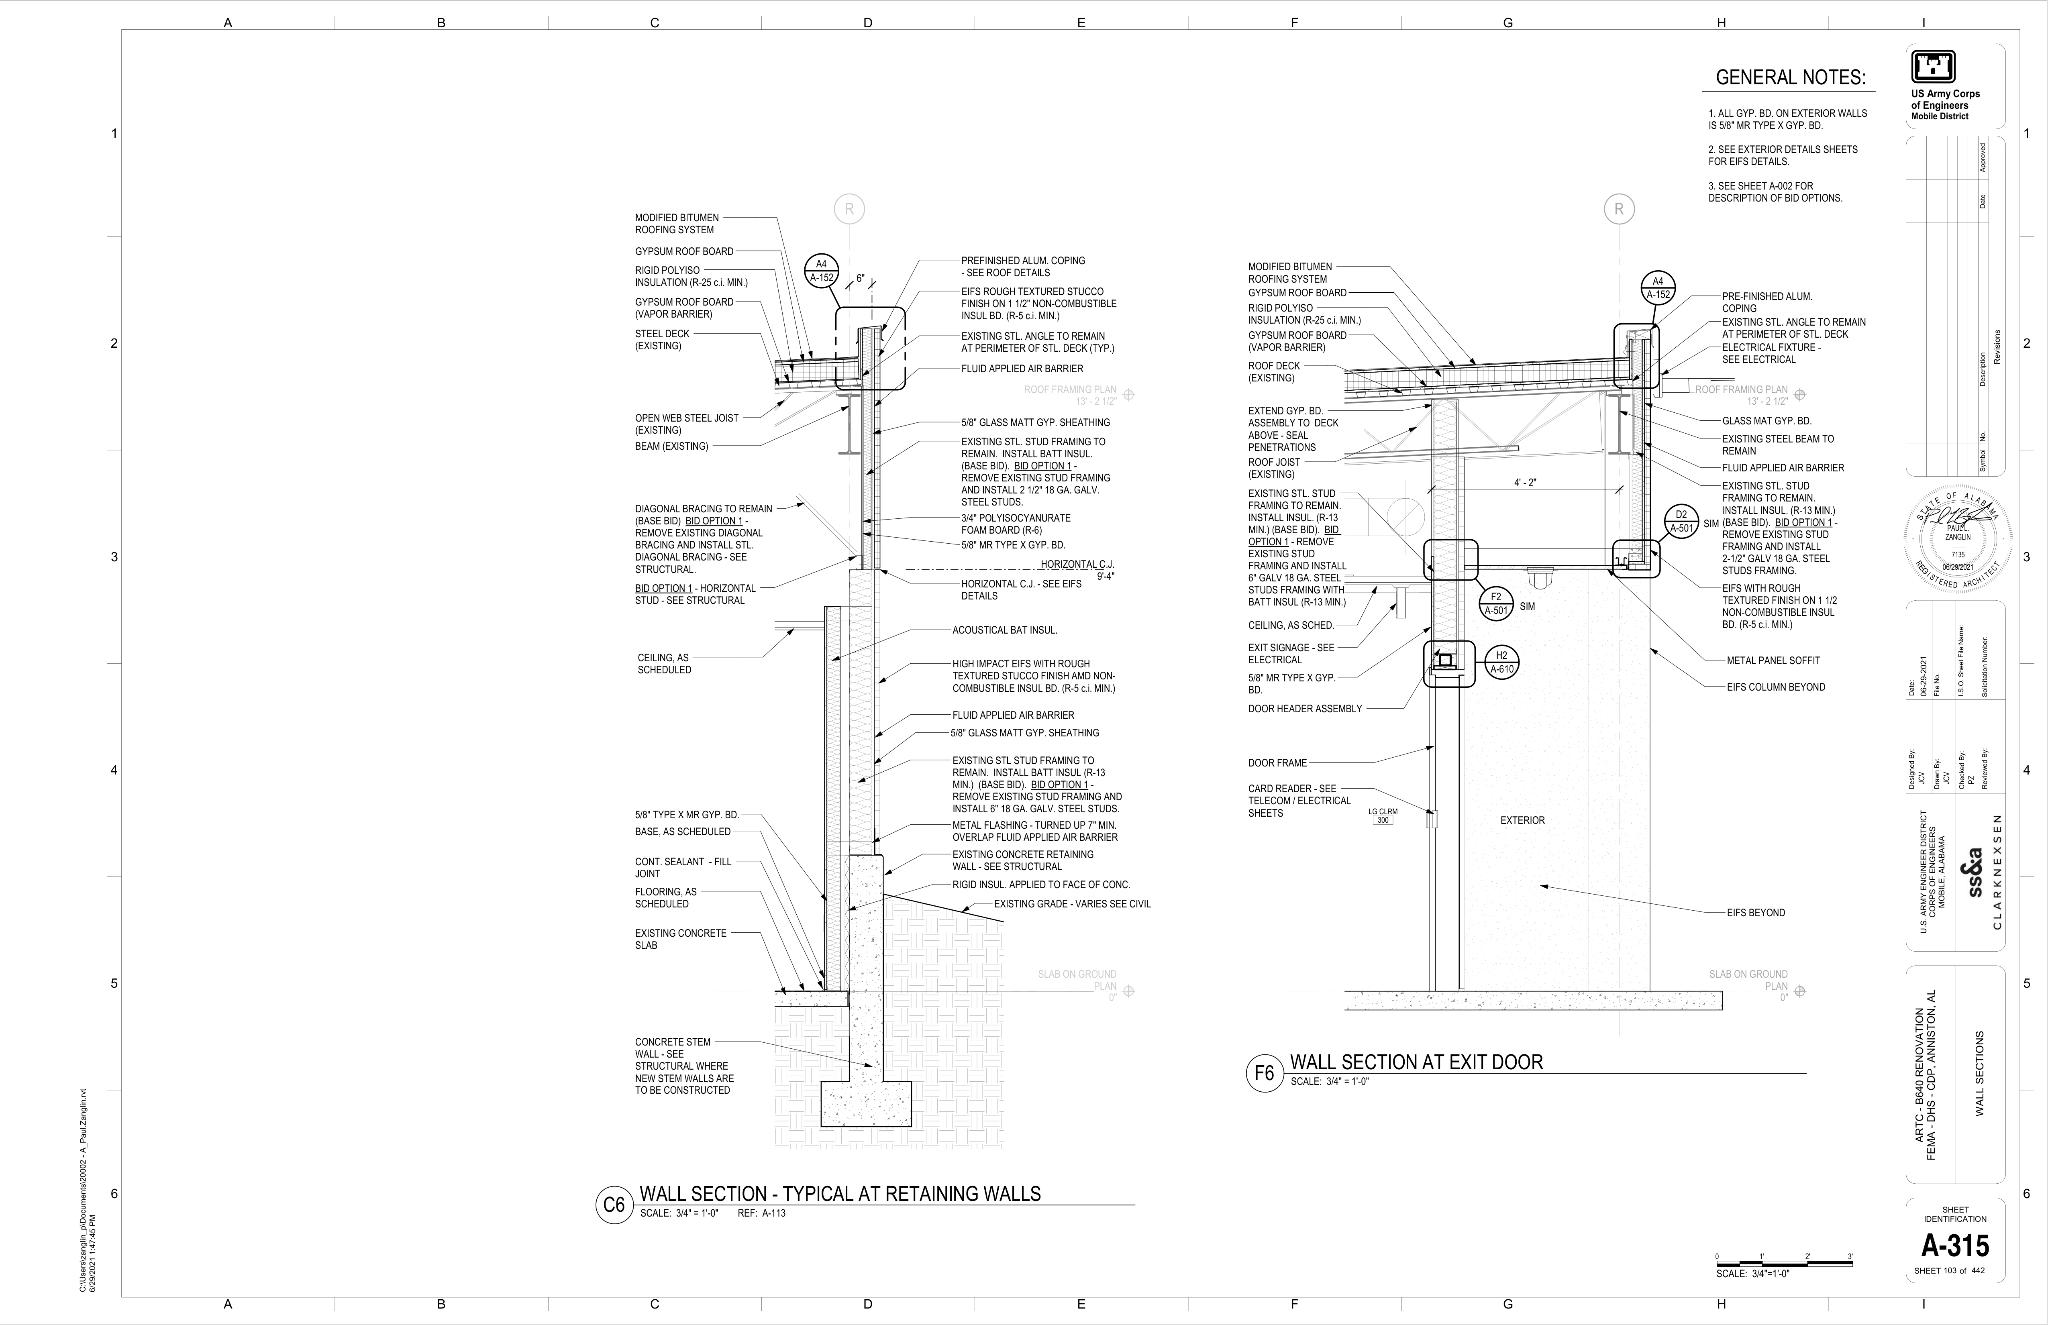detail: (1640, 269, 1675, 324), (804, 254, 841, 304), (1473, 645, 1520, 679), (1478, 585, 1516, 623), (1664, 504, 1701, 541), (1485, 584, 1485, 584)
title: (1245, 1050, 1807, 1094), (595, 1183, 1137, 1225), (1905, 485, 2013, 593), (1906, 485, 2011, 593), (818, 262, 818, 263)
